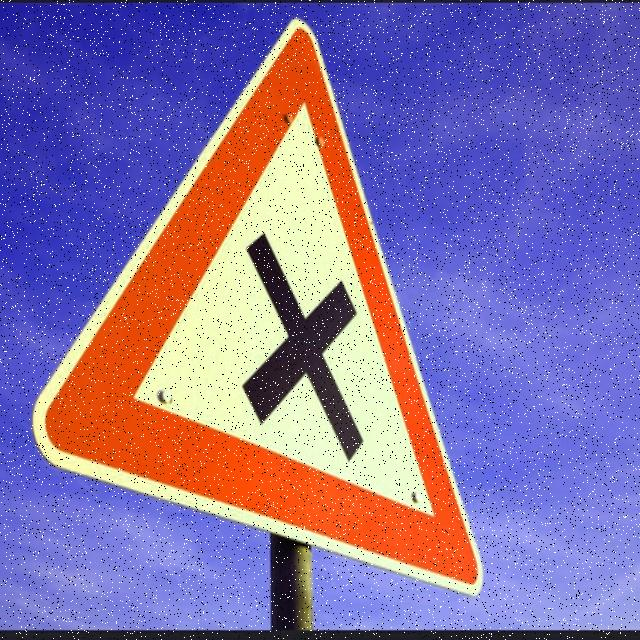Crossroads: (31, 18, 507, 597)
